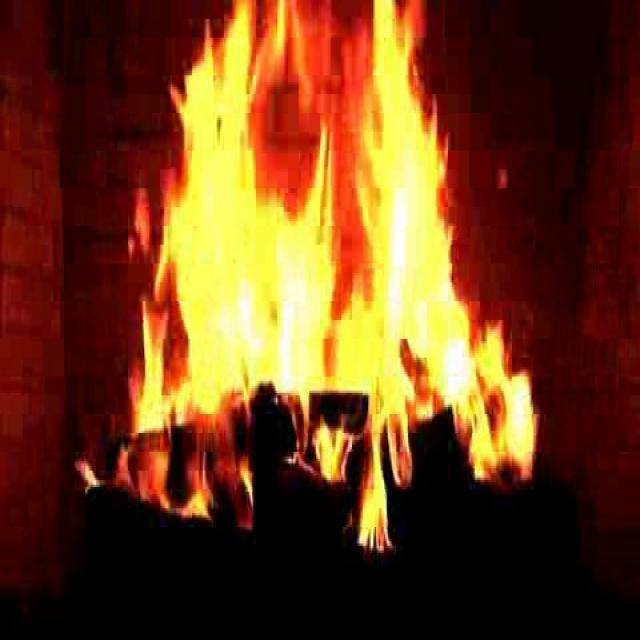Smoke: (140, 32, 498, 484)
